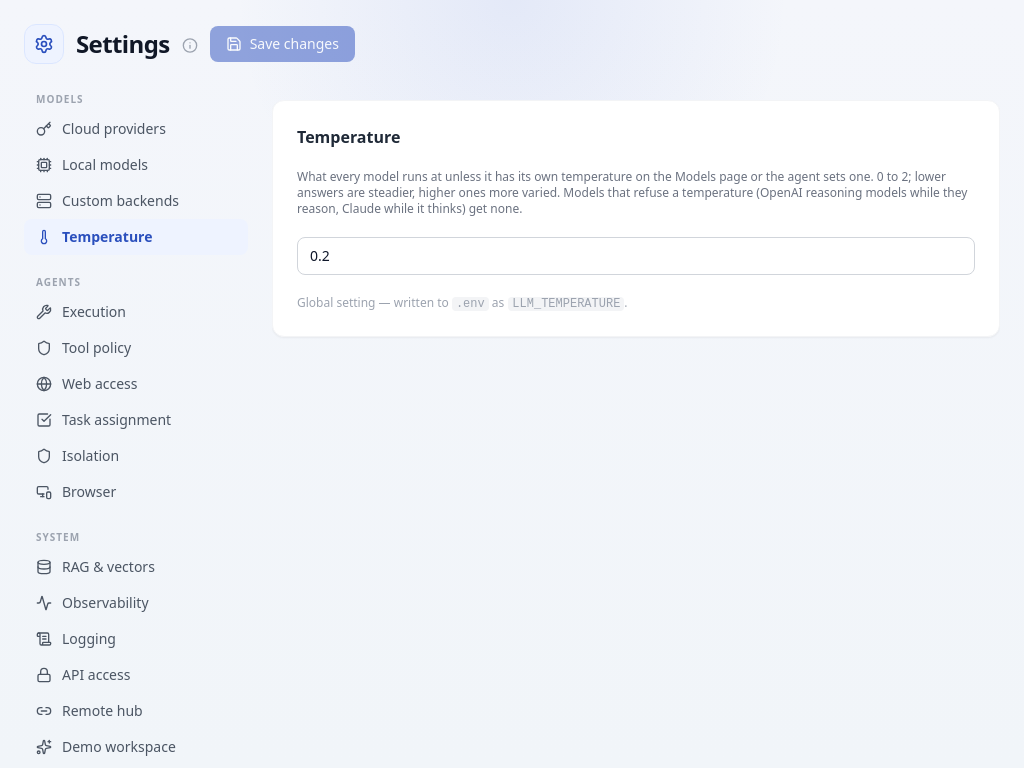
Test: Settings global temperature › refuses a value outside 0 to 2
This screenshot has width=1024, height=768.
Replace the text in the number field named "Temperature" with "3" at (636,256), box [297,237,975,275]
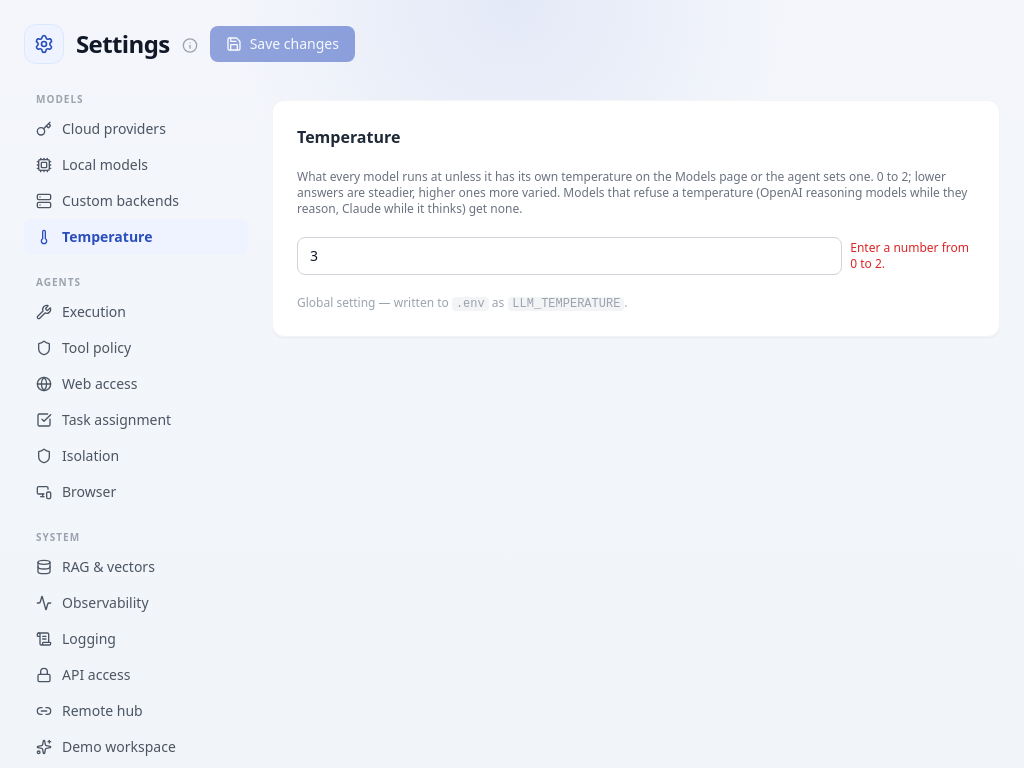
Check: the button with test id "settings-save" is disabled, box [210,26,355,62]
Check: the text "Enter a number from 0 to 2." is shown, box [850,240,975,272]
